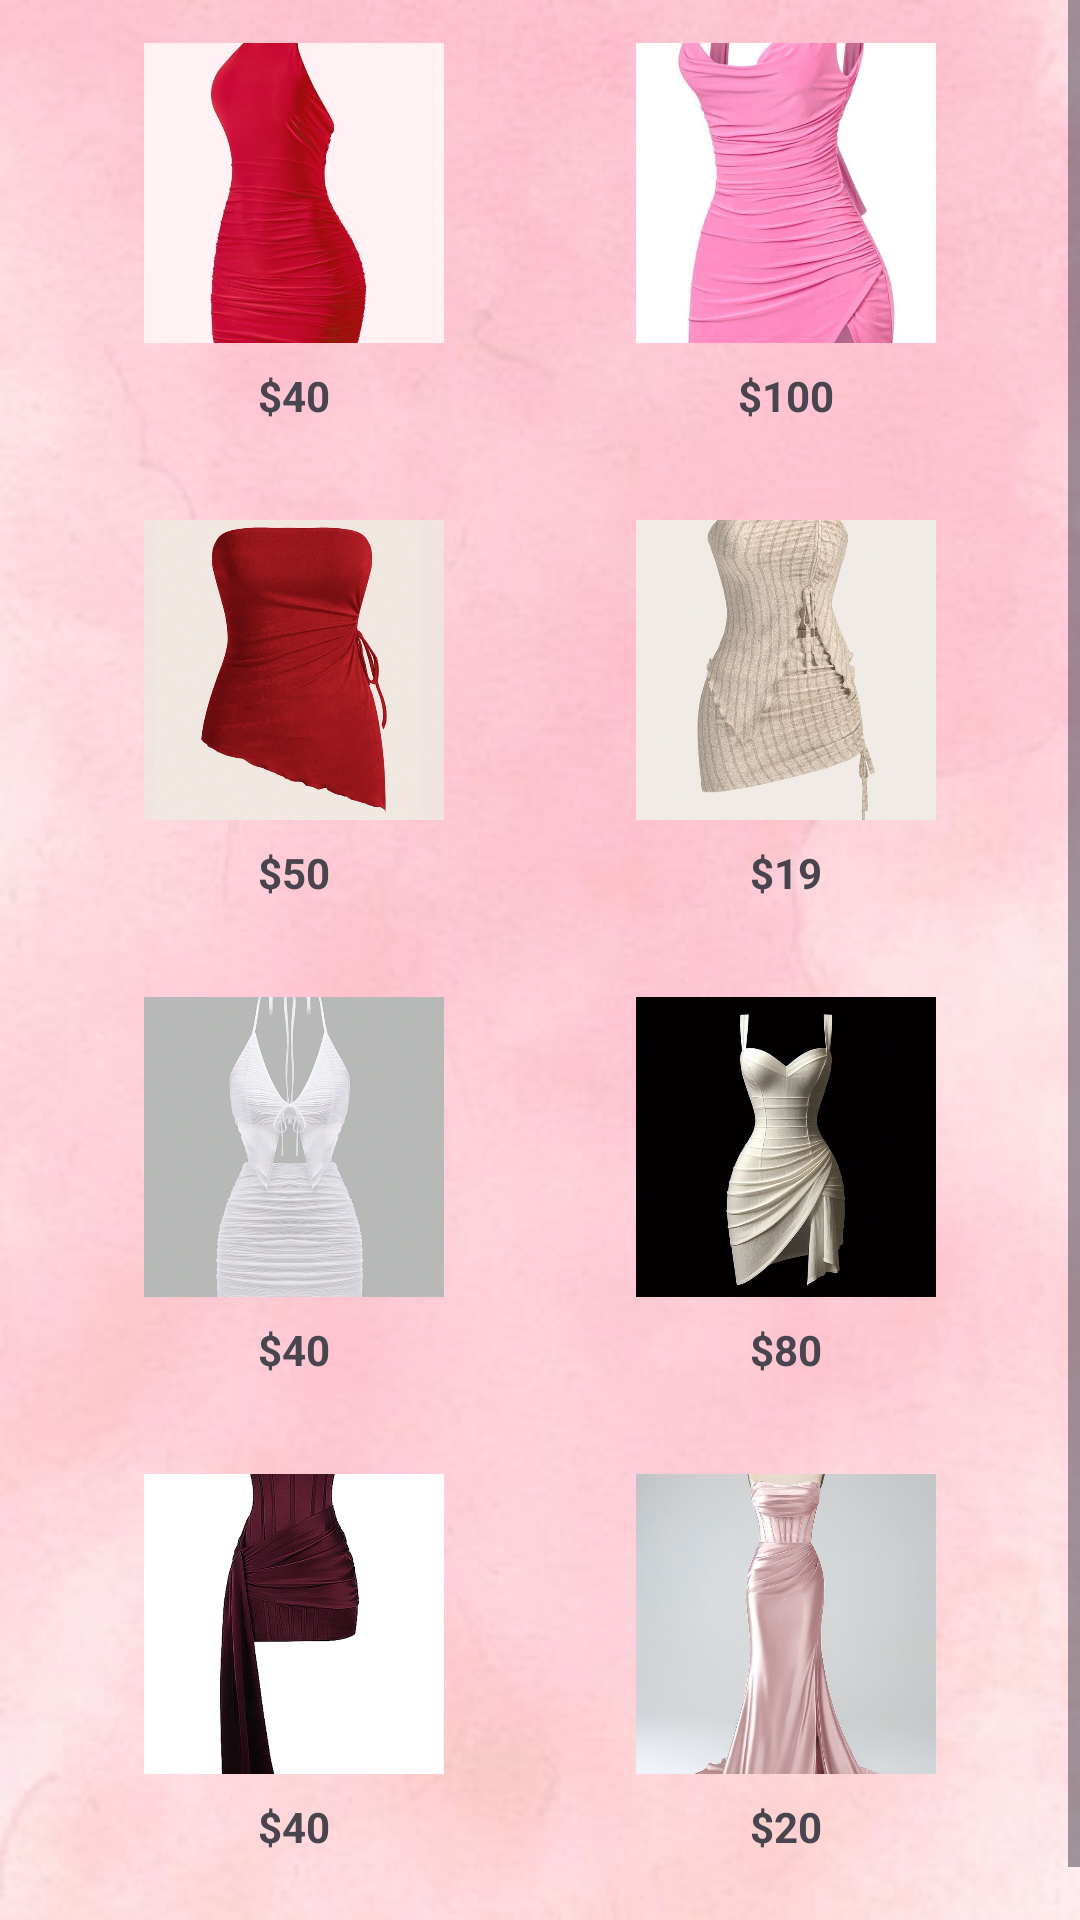

Screen size 1080×1920. Icon name, then its center in pixels as point (x, y):
dress: point (294, 193), point (786, 193), point (786, 670), point (294, 669), point (294, 1147), point (786, 1147), point (294, 1624), point (786, 1624)
